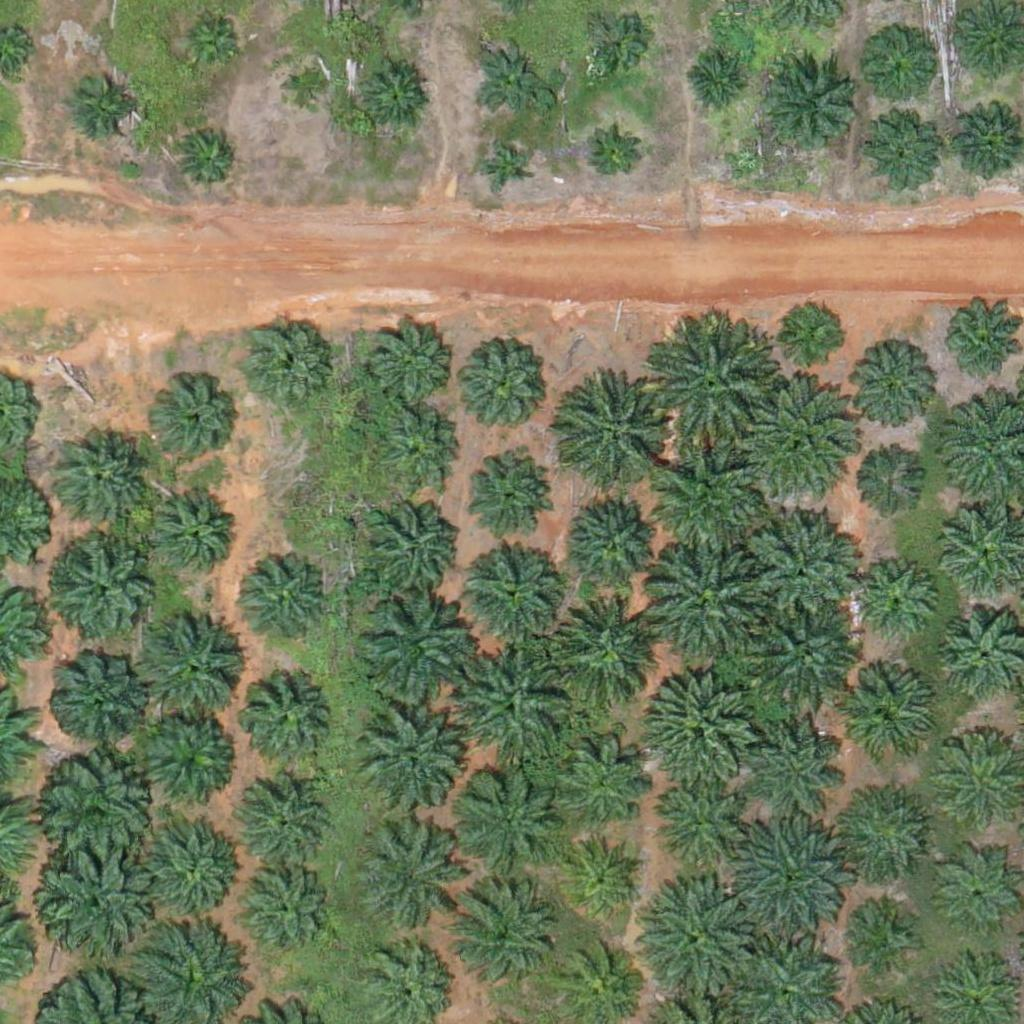Kelapa_Sawit: (650, 328, 775, 454), (750, 383, 863, 497), (546, 596, 659, 710), (732, 818, 845, 931), (653, 446, 766, 559), (644, 547, 757, 660), (641, 667, 754, 780), (539, 727, 652, 840), (36, 848, 149, 961), (649, 885, 761, 999), (451, 761, 563, 875), (448, 877, 560, 991), (357, 593, 469, 707), (750, 598, 862, 711), (745, 511, 857, 624), (456, 652, 568, 765), (132, 609, 244, 722), (49, 537, 161, 650), (42, 756, 154, 869), (748, 705, 848, 806), (568, 489, 668, 590), (452, 333, 552, 434), (352, 825, 452, 926), (228, 553, 328, 654), (233, 774, 333, 875), (234, 863, 334, 964), (143, 815, 243, 916), (135, 707, 235, 808), (51, 429, 151, 530), (757, 56, 857, 157), (837, 667, 937, 767), (563, 387, 663, 487), (465, 543, 565, 643), (356, 712, 456, 812), (361, 496, 461, 596), (237, 668, 337, 768), (47, 649, 147, 749), (847, 345, 935, 434), (558, 835, 646, 923), (848, 557, 936, 645), (647, 781, 735, 869), (459, 449, 547, 537), (241, 318, 329, 406), (144, 489, 232, 577), (842, 788, 929, 876), (379, 404, 466, 492), (367, 321, 454, 409), (154, 378, 241, 466), (68, 68, 143, 144), (849, 450, 924, 526), (944, 859, 1019, 935), (865, 114, 940, 190), (357, 58, 432, 133), (473, 40, 548, 115), (862, 37, 925, 100), (178, 128, 241, 191), (686, 55, 749, 118), (783, 302, 846, 365), (581, 10, 644, 73), (851, 907, 914, 970), (178, 10, 241, 73), (587, 132, 637, 183), (480, 141, 530, 192), (282, 63, 332, 113)
